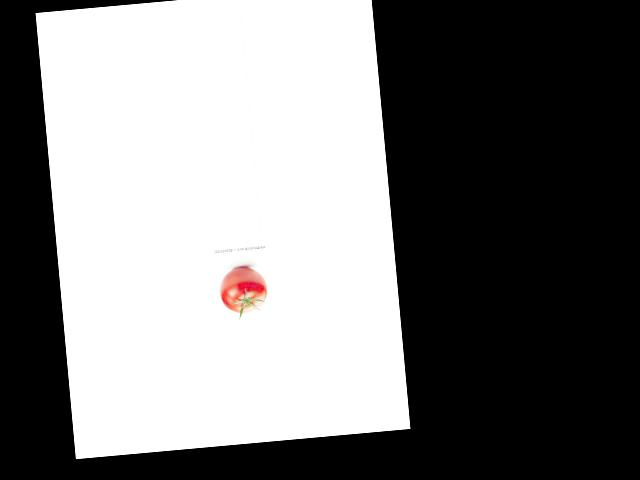tomato: (218, 265, 268, 314)
